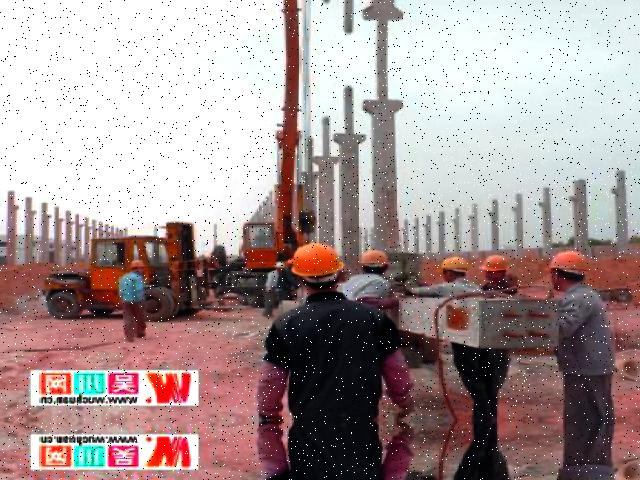Helmet: (288, 236, 352, 292), (546, 246, 599, 282), (355, 244, 399, 274), (477, 250, 518, 276), (441, 252, 474, 278)
